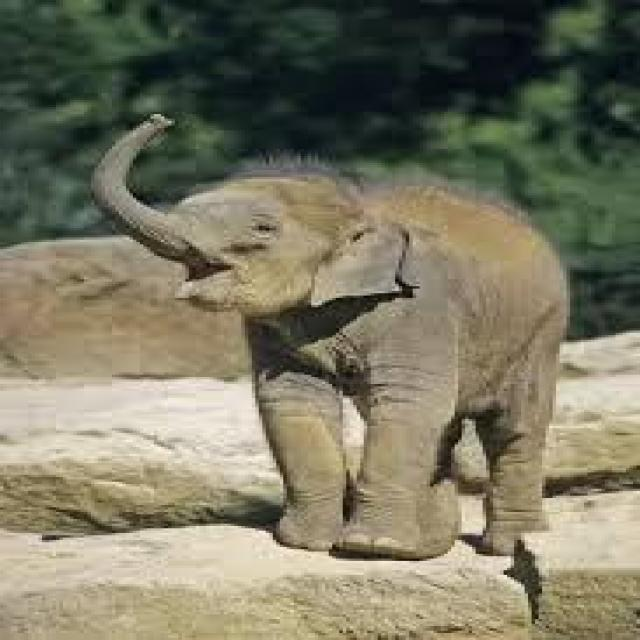Elephant: (94, 112, 591, 560)
